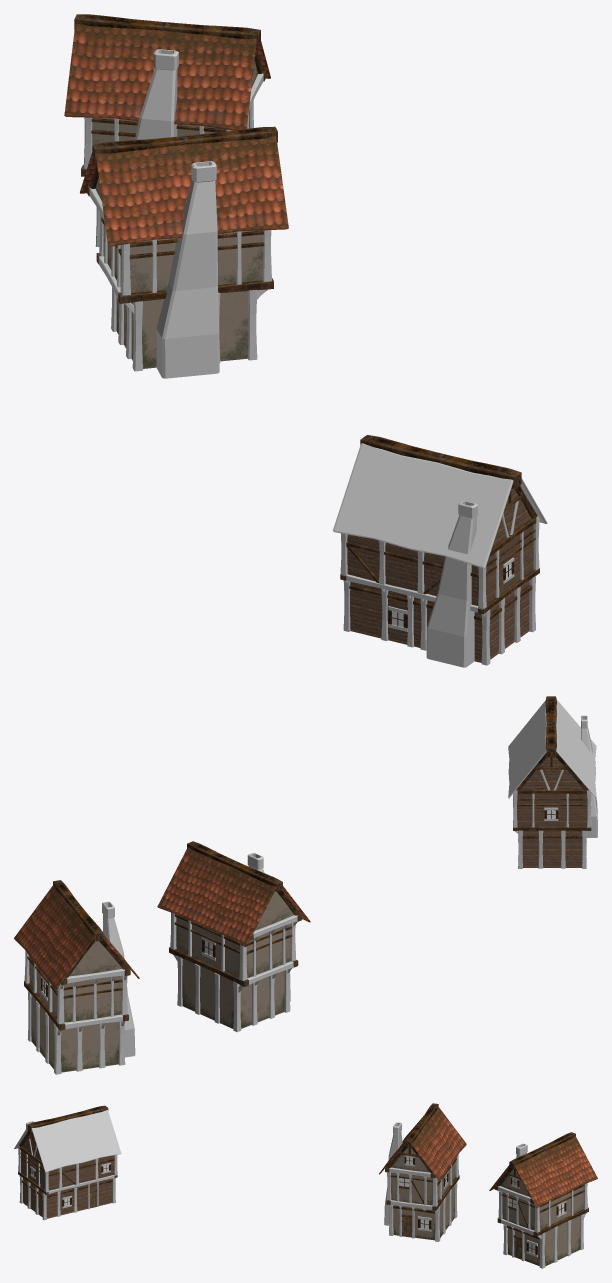
File: Cottages.fbx
3 renders of one model, top to bottom at view 1: azimuth 30°, elevation 25°; view 2: azimuth 150°, elevation 25°; view 3: azimuth 270°, elevation 25°, orthographic. The views are drawn at different scales.
Parts seen in each view (by area): view 1: Mortar_House_Small_2.001, Wooden_Log_House_Large_1, Mortar_House_Small_2; view 2: Mortar_House_Small_2.001, Mortar_House_Small_2, Wooden_Log_House_Large_1; view 3: Mortar_House_Small_2, Wooden_Log_House_Large_1, Mortar_House_Small_2.001.
Part boxes in pixels (x1=…): Mortar_House_Small_2.001: x1=80, y1=126, x2=288, y2=378; Wooden_Log_House_Large_1: x1=332, y1=435, x2=547, y2=667; Mortar_House_Small_2: x1=64, y1=14, x2=270, y2=246; Mortar_House_Small_2.001: x1=157, y1=841, x2=310, y2=1032; Mortar_House_Small_2: x1=14, y1=880, x2=139, y2=1074; Wooden_Log_House_Large_1: x1=508, y1=696, x2=597, y2=868; Mortar_House_Small_2: x1=489, y1=1132, x2=597, y2=1268; Wooden_Log_House_Large_1: x1=14, y1=1105, x2=121, y2=1220; Mortar_House_Small_2.001: x1=379, y1=1103, x2=466, y2=1241.
Bounding box in the file's own units: 205 × 107 × 540.
